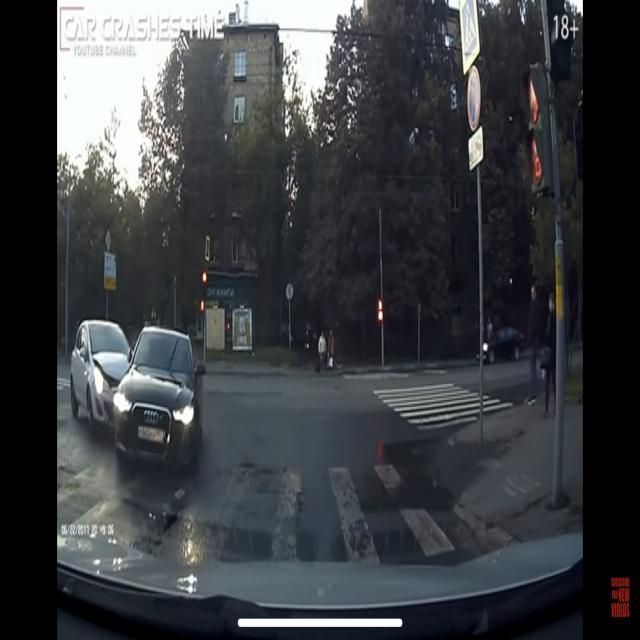accident: (51, 264, 218, 516)
